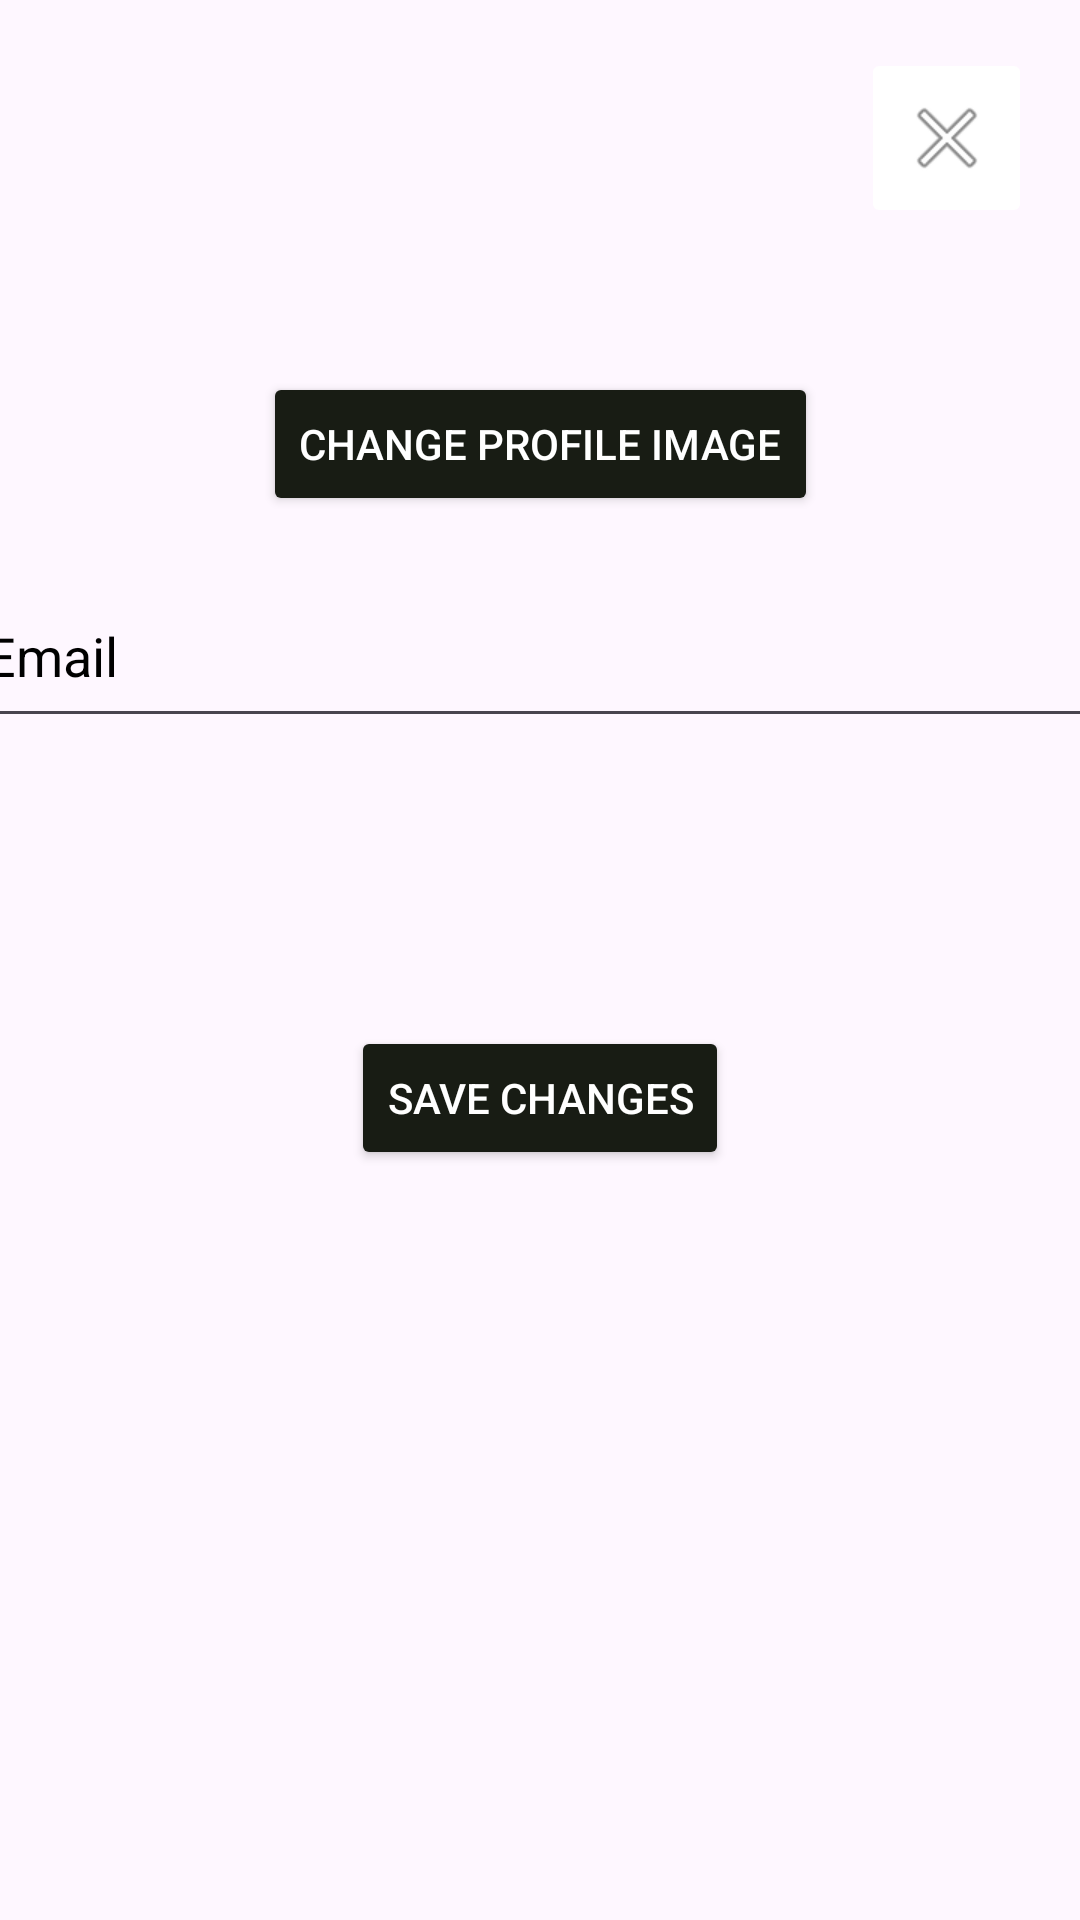

Where icons sit on this 1080 × 1920 app screen, as Rect(x1, y1, x2, y2):
Close Edit Profile: Rect(917, 108, 977, 168)
